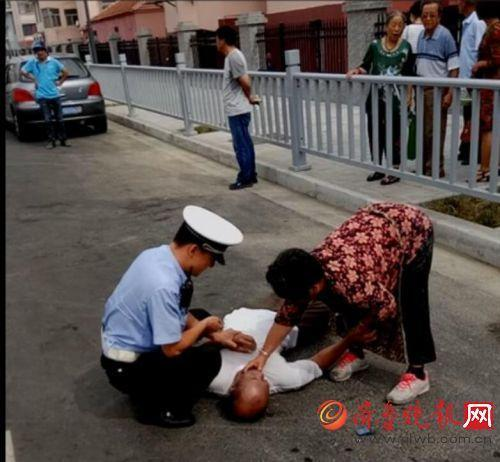Fall-Detected: (187, 289, 356, 420)
